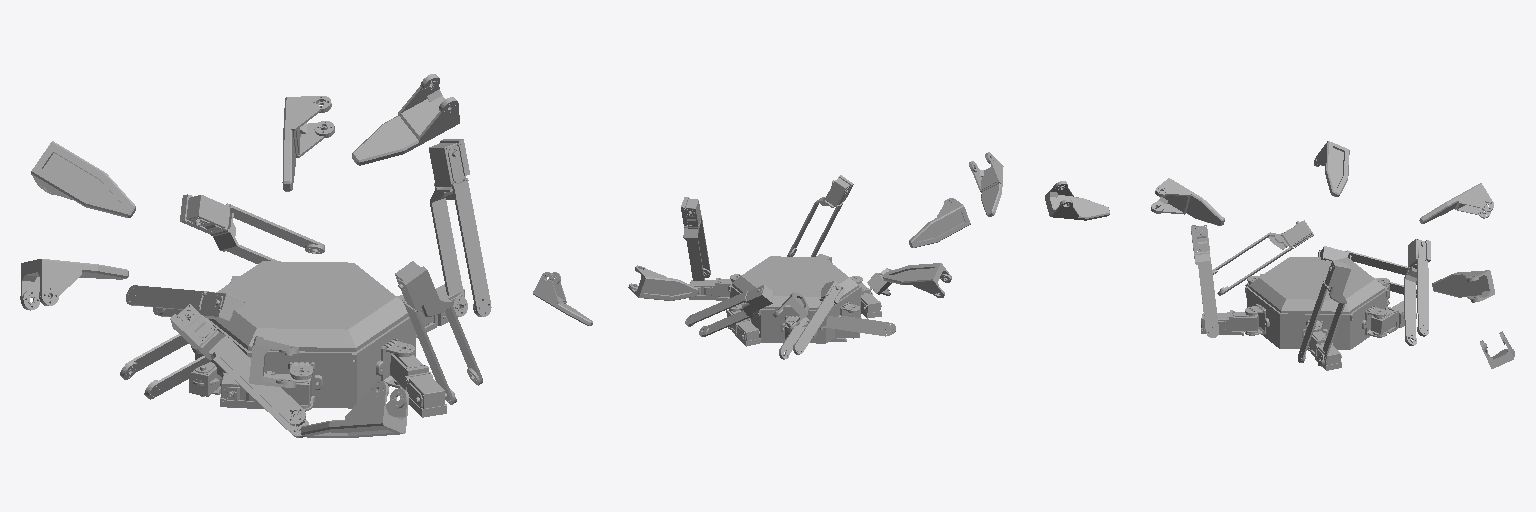
--- Facts derived from the render (not from the file) ---
Views: 3 orthographic renders of the robot side by side, from view 1: azimuth 30°, elevation 25°; view 2: azimuth 150°, elevation 25°; view 3: azimuth 270°, elevation 25°.
Model hexapod_description with 25 links and 24 joints (17 revolute, 1 continuous, 6 fixed), rooted at base_link, posed all joints at 0.
Visible links, largest first — view 1: base_link, 5B_link, 5C_link, 1B_link, 3C_link, 6B_link, 4B_link, 6C_link, 2C_link, 4C_link, 3B_link, 6A_link (+4 smaller); view 2: base_link, 4B_link, 5B_link, 3B_link, 1C_link, 4C_link, 2C_link, 6C_link, 6B_link, 5C_link, 2B_link, 5A_link (+1 smaller); view 3: base_link, 4B_link, 5B_link, 1C_link, 6B_link, 6C_link, 4C_link, 3C_link, 2C_link, 1B_link, 3B_link, 6A_link (+2 smaller).
Link boxes in pixels (x1,y1,x2,y2): base_link: [191, 261, 417, 411]; 5B_link: [429, 139, 491, 316]; 5C_link: [352, 74, 459, 165]; 1B_link: [170, 304, 308, 437]; 3C_link: [31, 141, 135, 217]; 6B_link: [395, 261, 482, 404]; 4B_link: [180, 194, 324, 263]; 6C_link: [301, 380, 408, 437]; 2C_link: [20, 259, 128, 310]; 4C_link: [282, 96, 334, 191]; 3B_link: [126, 285, 244, 320]; 6A_link: [390, 354, 446, 417]; base_link: [728, 256, 862, 343]; 4B_link: [685, 285, 773, 336]; 5B_link: [681, 197, 710, 280]; 3B_link: [779, 281, 844, 359]; 1C_link: [909, 198, 970, 247]; 4C_link: [628, 265, 698, 300]; 2C_link: [883, 263, 951, 297]; 6C_link: [969, 152, 1003, 216]; 6B_link: [787, 175, 853, 256]; 5C_link: [533, 272, 592, 325]; 2B_link: [820, 316, 895, 336]; 5A_link: [689, 278, 731, 300]; base_link: [1245, 257, 1389, 351]; 4B_link: [1404, 239, 1430, 345]; 5B_link: [1298, 260, 1350, 366]; 1C_link: [1151, 178, 1224, 225]; 6B_link: [1191, 225, 1218, 337]; 6C_link: [1045, 181, 1109, 220]; 4C_link: [1432, 270, 1494, 302]; 3C_link: [1419, 183, 1493, 223]; 2C_link: [1314, 141, 1349, 196]; 1B_link: [1212, 220, 1313, 295]; 3B_link: [1318, 246, 1416, 297]; 6A_link: [1201, 310, 1258, 335].
Bounding box of the posed robot: 0.7007 × 0.804 × 0.2192 m (x, y, z).
19 mesh visuals loaded from 25 distinct referenced files (19 binary STL); not drawn: 6 (reference not matched to a file when rendering).

The robot description file, URDF, robot "hexapod_description":
<?xml version="1.0" encoding="utf-8"?>
<!-- This URDF was automatically created by SolidWorks to URDF Exporter! Originally created by Stephen Brawner ([email redacted]) 
     Commit Version: 1.6.0-4-g7f85cfe  Build Version: 1.6.7995.38578
     For more information, please see http://wiki.ros.org/sw_urdf_exporter -->
<robot
  name="hexapod_description">
  <link
    name="base_link">
    <inertial>
      <origin
        xyz="8.3132949968423E-09 -1.60645398483705E-07 0.0398545694413555"
        rpy="0 0 0" />
      <mass
        value="0.508188386188677" />
      <inertia
        ixx="0.00175052303771207"
        ixy="-2.89062175548116E-06"
        ixz="2.99462448397941E-10"
        iyy="0.00174770751625814"
        iyz="-7.33217095029747E-09"
        izz="0.00325955756407988" />
    </inertial>
    <visual>
      <origin
        xyz="0 0 0"
        rpy="0 0 0" />
      <geometry>
        <mesh
          filename="package://hexapod_description/meshes/base_link.STL" />
      </geometry>
      <material
        name="">
        <color
          rgba="0.698039215686274 0.698039215686274 0.698039215686274 1" />
      </material>
    </visual>
    <collision>
      <origin
        xyz="0 0 0"
        rpy="0 0 0" />
      <geometry>
        <mesh
          filename="package://hexapod_description/meshes/base_link.STL" />
      </geometry>
    </collision>
  </link>
  <link
    name="1A_link">
    <inertial>
      <origin
        xyz="0.0436333077262725 -0.000983429050531615 -0.00579099697381125"
        rpy="0 0 0" />
      <mass
        value="0.0329624380889454" />
      <inertia
        ixx="4.11063607279416E-06"
        ixy="2.02839323084862E-07"
        ixz="6.13000252409731E-07"
        iyy="1.17840539365979E-05"
        iyz="-2.65175105562365E-08"
        izz="1.16182136839027E-05" />
    </inertial>
    <visual>
      <origin
        xyz="0 0 0"
        rpy="0 0 0" />
      <geometry>
        <mesh
          filename="package://hexapod_description/meshes/1A_link.STL" />
      </geometry>
      <material
        name="">
        <color
          rgba="0.698039215686274 0.698039215686274 0.698039215686274 1" />
      </material>
    </visual>
    <collision>
      <origin
        xyz="0 0 0"
        rpy="0 0 0" />
      <geometry>
        <mesh
          filename="package://hexapod_description/meshes/1A_link.STL" />
      </geometry>
    </collision>
  </link>
  <joint
    name="1A_joint"
    type="revolute">
    <origin
      xyz="-0.066747 -0.10678 0.03165"
      rpy="0 0.035739 -2.1204" />
    <parent
      link="base_link" />
    <child
      link="1A_link" />
    <axis
      xyz="-0.035728 0 0.99936" />
    <limit
      lower="-1"
      upper="1"
      effort="0"
      velocity="0" />
  </joint>
  <link
    name="1B_link">
    <inertial>
      <origin
        xyz="0.101870838528152 -0.00274030558914196 -0.00335041003005071"
        rpy="0 0 0" />
      <mass
        value="0.0491658077507467" />
      <inertia
        ixx="7.62687797343541E-06"
        ixy="1.36433680022234E-05"
        ixz="6.32130646997768E-06"
        iyy="9.61295518656803E-05"
        iyz="-1.69463851792476E-06"
        izz="9.79816595400282E-05" />
    </inertial>
    <visual>
      <origin
        xyz="0 0 0"
        rpy="0 0 0" />
      <geometry>
        <mesh
          filename="package://hexapod_description/meshes/1B_link.STL" />
      </geometry>
      <material
        name="">
        <color
          rgba="0.698039215686274 0.698039215686274 0.698039215686274 1" />
      </material>
    </visual>
    <collision>
      <origin
        xyz="0 0 0"
        rpy="0 0 0" />
      <geometry>
        <mesh
          filename="package://hexapod_description/meshes/1B_link.STL" />
      </geometry>
    </collision>
  </link>
  <joint
    name="1B_joint"
    type="revolute">
    <origin
      xyz="0.075536 -0.001836 0"
      rpy="0.00047569 -0.82122 -0.0094139" />
    <parent
      link="1A_link" />
    <child
      link="1B_link" />
    <axis
      xyz="0 -1 0" />
    <limit
      lower="-1"
      upper="1"
      effort="0"
      velocity="0" />
  </joint>
  <link
    name="1C_link">
    <inertial>
      <origin
        xyz="0.0396589922531539 -0.000979703305875712 0.0183007881130968"
        rpy="0 0 0" />
      <mass
        value="0.0681025572602457" />
      <inertia
        ixx="1.84805656449333E-05"
        ixy="-2.67788613280572E-07"
        ixz="1.32337376294039E-05"
        iyy="7.41762250523367E-05"
        iyz="-9.11230813138536E-08"
        izz="7.94157570878884E-05" />
    </inertial>
    <visual>
      <origin
        xyz="0 0 0"
        rpy="0 0 0" />
      <geometry>
        <mesh
          filename="package://hexapod_description/meshes/1C_link.STL" />
      </geometry>
      <material
        name="">
        <color
          rgba="0.698039215686274 0.698039215686274 0.698039215686274 1" />
      </material>
    </visual>
    <collision>
      <origin
        xyz="0 0 0"
        rpy="0 0 0" />
      <geometry>
        <mesh
          filename="package://hexapod_description/meshes/1C_link.STL" />
      </geometry>
    </collision>
  </link>
  <joint
    name="1C_joint"
    type="revolute">
    <origin
      xyz="0.17108 -0.00665 0"
      rpy="3.1416 1.0908 3.1416" />
    <parent
      link="1B_link" />
    <child
      link="1C_link" />
    <axis
      xyz="0 -1 0" />
    <limit
      lower="-1"
      upper="1"
      effort="0"
      velocity="0" />
  </joint>
  <link
    name="1P_link">
    <inertial>
      <origin
        xyz="-0.0774005193641238 -0.000101516346325103 -0.00446200209805514"
        rpy="0 0 0" />
      <mass
        value="0.065522052028268" />
      <inertia
        ixx="1.63167104597987E-05"
        ixy="-2.27987502279929E-07"
        ixz="-6.6373217611144E-06"
        iyy="7.40141018310191E-05"
        iyz="-1.67439121756891E-07"
        izz="8.14120915733197E-05" />
    </inertial>
    <visual>
      <origin
        xyz="0 0 0"
        rpy="0 0 0" />
      <geometry>
        <mesh
          filename="package://hexapod_description/meshes/1P_link.STL" />
      </geometry>
      <material
        name="">
        <color
          rgba="0.698039215686274 0.698039215686274 0.698039215686274 1" />
      </material>
    </visual>
    <collision>
      <origin
        xyz="0 0 0"
        rpy="0 0 0" />
      <geometry>
        <mesh
          filename="package://hexapod_description/meshes/1P_link.STL" />
      </geometry>
    </collision>
  </link>
  <joint
    name="1P_joint"
    type="fixed">
    <origin
      xyz="0.11638 -0.00085 0"
      rpy="0 0.30547 0" />
    <parent
      link="1C_link" />
    <child
      link="1P_link" />
    <axis
      xyz="0 0 0" />
    <limit
      lower="-1"
      upper="1"
      effort="0"
      velocity="0" />
  </joint>
  <link
    name="2A_link">
    <inertial>
      <origin
        xyz="0.0430928267092412 -0.00540497612153903 0.0129538457442289"
        rpy="0 0 0" />
      <mass
        value="0.0329624385476769" />
      <inertia
        ixx="4.2842650710344E-06"
        ixy="9.70938519171719E-07"
        ixz="8.71458885550921E-07"
        iyy="1.16637820306486E-05"
        iyz="-1.23301625642984E-07"
        izz="1.15648566711477E-05" />
    </inertial>
    <visual>
      <origin
        xyz="0 0 0"
        rpy="0 0 0" />
      <geometry>
        <mesh
          filename="package://hexapod_description/meshes/2A_link.STL" />
      </geometry>
      <material
        name="">
        <color
          rgba="0.698039215686274 0.698039215686274 0.698039215686274 1" />
      </material>
    </visual>
    <collision>
      <origin
        xyz="0 0 0"
        rpy="0 0 0" />
      <geometry>
        <mesh
          filename="package://hexapod_description/meshes/2A_link.STL" />
      </geometry>
    </collision>
  </link>
  <joint
    name="2A_joint"
    type="continuous">
    <origin
      xyz="-0.12582 0.0044184 0.01135"
      rpy="0 0 -3.0654" />
    <parent
      link="base_link" />
    <child
      link="2A_link" />
    <axis
      xyz="0 0 1" />
    <limit
      lower="-1"
      upper="1"
      effort="0"
      velocity="0" />
  </joint>
  <link
    name="2B_link">
    <inertial>
      <origin
        xyz="0.101870758188408 -0.00274030552288767 -0.00335286713403343"
        rpy="0 0 0" />
      <mass
        value="0.0491658081930703" />
      <inertia
        ixx="7.62718300402873E-06"
        ixy="1.36433271242108E-05"
        ixz="6.32348587175763E-06"
        iyy="9.6129551905895E-05"
        iyz="-1.69496760520903E-06"
        izz="9.79813545530303E-05" />
    </inertial>
    <visual>
      <origin
        xyz="0 0 0"
        rpy="0 0 0" />
      <geometry>
        <mesh
          filename="package://hexapod_description/meshes/2B_link.STL" />
      </geometry>
      <material
        name="">
        <color
          rgba="0.698039215686274 0.698039215686274 0.698039215686274 1" />
      </material>
    </visual>
    <collision>
      <origin
        xyz="0 0 0"
        rpy="0 0 0" />
      <geometry>
        <mesh
          filename="package://hexapod_description/meshes/2B_link.STL" />
      </geometry>
    </collision>
  </link>
  <joint
    name="2B_joint"
    type="revolute">
    <origin
      xyz="0.074928 -0.009527 0.017601"
      rpy="0 -0.78551 -0.11127" />
    <parent
      link="2A_link" />
    <child
      link="2B_link" />
    <axis
      xyz="0 -1 0" />
    <limit
      lower="-1"
      upper="1"
      effort="0"
      velocity="0" />
  </joint>
  <link
    name="2C_link">
    <inertial>
      <origin
        xyz="0.0396696358786118 -0.000979703306244147 0.0182899254696576"
        rpy="0 0 0" />
      <mass
        value="0.068102557260246" />
      <inertia
        ixx="1.84768194960925E-05"
        ixy="-2.67775709069847E-07"
        ixz="1.3225109652228E-05"
        iyy="7.41762250523362E-05"
        iyz="-9.11609949592177E-08"
        izz="7.94195032367302E-05" />
    </inertial>
    <visual>
      <origin
        xyz="0 0 0"
        rpy="0 0 0" />
      <geometry>
        <mesh
          filename="package://hexapod_description/meshes/2C_link.STL" />
      </geometry>
      <material
        name="">
        <color
          rgba="0.698039215686274 0.698039215686274 0.698039215686274 1" />
      </material>
    </visual>
    <collision>
      <origin
        xyz="0 0 0"
        rpy="0 0 0" />
      <geometry>
        <mesh
          filename="package://hexapod_description/meshes/2C_link.STL" />
      </geometry>
    </collision>
  </link>
  <joint
    name="2C_joint"
    type="revolute">
    <origin
      xyz="0.1711 -0.00665 0"
      rpy="-3.1416 1.0906 -3.1416" />
    <parent
      link="2B_link" />
    <child
      link="2C_link" />
    <axis
      xyz="0 -1 0" />
    <limit
      lower="-1"
      upper="1"
      effort="0"
      velocity="0" />
  </joint>
  <link
    name="2P_link">
    <inertial>
      <origin
        xyz="-0.0774005193641238 -0.000101517727919047 -0.00446200215131309"
        rpy="0 0 0" />
      <mass
        value="0.0655220520282681" />
      <inertia
        ixx="1.63167104597985E-05"
        ixy="-2.27987461896302E-07"
        ixz="-6.63732176250068E-06"
        iyy="7.40141018330569E-05"
        iyz="-1.67439166770418E-07"
        izz="8.14120915712826E-05" />
    </inertial>
    <visual>
      <origin
        xyz="0 0 0"
        rpy="0 0 0" />
      <geometry>
        <mesh
          filename="package://hexapod_description/meshes/2P_link.STL" />
      </geometry>
      <material
        name="">
        <color
          rgba="0.698039215686274 0.698039215686274 0.698039215686274 1" />
      </material>
    </visual>
    <collision>
      <origin
        xyz="0 0 0"
        rpy="0 0 0" />
      <geometry>
        <mesh
          filename="package://hexapod_description/meshes/2P_link.STL" />
      </geometry>
    </collision>
  </link>
  <joint
    name="2P_joint"
    type="fixed">
    <origin
      xyz="0.11639 -0.00085 0"
      rpy="0 0.30533 0" />
    <parent
      link="2C_link" />
    <child
      link="2P_link" />
    <axis
      xyz="0 0 0" />
    <limit
      lower="-1"
      upper="1"
      effort="0"
      velocity="0" />
  </joint>
  <link
    name="3A_link">
    <inertial>
      <origin
        xyz="0.0436333079139021 -0.000983433795987143 -0.00579099682872819"
        rpy="0 0 0" />
      <mass
        value="0.0329624385357417" />
      <inertia
        ixx="4.11063610367343E-06"
        ixy="2.02839324882533E-07"
        ixz="6.13000250342798E-07"
        iyy="1.1784053976968E-05"
        iyz="-2.65175120067955E-08"
        izz="1.16182136968584E-05" />
    </inertial>
    <visual>
      <origin
        xyz="0 0 0"
        rpy="0 0 0" />
      <geometry>
        <mesh
          filename="package://hexapod_description/meshes/3A_link.STL" />
      </geometry>
      <material
        name="">
        <color
          rgba="0.698039215686274 0.698039215686274 0.698039215686274 1" />
      </material>
    </visual>
    <collision>
      <origin
        xyz="0 0 0"
        rpy="0 0 0" />
      <geometry>
        <mesh
          filename="package://hexapod_description/meshes/3A_link.STL" />
      </geometry>
    </collision>
  </link>
  <joint
    name="3A_joint"
    type="revolute">
    <origin
      xyz="-0.059099 0.11119 0.03165"
      rpy="0 0.035732 2.0683" />
    <parent
      link="base_link" />
    <child
      link="3A_link" />
    <axis
      xyz="-0.035728 0 0.99936" />
    <limit
      lower="-1"
      upper="1"
      effort="0"
      velocity="0" />
  </joint>
  <link
    name="3B_link">
    <inertial>
      <origin
        xyz="0.101870758152179 -0.0027403055212869 -0.00335286720269334"
        rpy="0 0 0" />
      <mass
        value="0.0491658081987106" />
      <inertia
        ixx="7.62718300690091E-06"
        ixy="1.36433271238362E-05"
        ixz="6.32348589089637E-06"
        iyy="9.61295519062814E-05"
        iyz="-1.69496760811594E-06"
        izz="9.79813545505293E-05" />
    </inertial>
    <visual>
      <origin
        xyz="0 0 0"
        rpy="0 0 0" />
      <geometry>
        <mesh
          filename="package://hexapod_description/meshes/3B_link.STL" />
      </geometry>
      <material
        name="">
        <color
          rgba="0.698039215686274 0.698039215686274 0.698039215686274 1" />
      </material>
    </visual>
    <collision>
      <origin
        xyz="0 0 0"
        rpy="0 0 0" />
      <geometry>
        <mesh
          filename="package://hexapod_description/meshes/3B_link.STL" />
      </geometry>
    </collision>
  </link>
  <joint
    name="3B_joint"
    type="revolute">
    <origin
      xyz="0.075536 -0.001836 0"
      rpy="0.0004757 -0.82124 -0.0094139" />
    <parent
      link="3A_link" />
    <child
      link="3B_link" />
    <axis
      xyz="5.4838E-05 -1 -5.485E-05" />
    <limit
      lower="-1"
      upper="1"
      effort="0"
      velocity="0" />
  </joint>
  <link
    name="3C_link">
    <inertial>
      <origin
        xyz="0.0396696358757853 -0.000979703304661822 0.0182899254680321"
        rpy="0 0 0" />
      <mass
        value="0.0681025572602457" />
      <inertia
        ixx="1.84768194960843E-05"
        ixy="-2.67775708726413E-07"
        ixz="1.32251096522163E-05"
        iyy="7.41762250523397E-05"
        iyz="-9.11609950489801E-08"
        izz="7.94195032367347E-05" />
    </inertial>
    <visual>
      <origin
        xyz="0 0 0"
        rpy="0 0 0" />
      <geometry>
        <mesh
          filename="package://hexapod_description/meshes/3C_link.STL" />
      </geometry>
      <material
        name="">
        <color
          rgba="0.698039215686274 0.698039215686274 0.698039215686274 1" />
      </material>
    </visual>
    <collision>
      <origin
        xyz="0 0 0"
        rpy="0 0 0" />
      <geometry>
        <mesh
          filename="package://hexapod_description/meshes/3C_link.STL" />
      </geometry>
    </collision>
  </link>
  <joint
    name="3C_joint"
    type="revolute">
    <origin
      xyz="0.1711 -0.00665 0"
      rpy="3.1416 1.0906 3.1416" />
    <parent
      link="3B_link" />
    <child
      link="3C_link" />
    <axis
      xyz="2.3315E-05 -1 7.3974E-05" />
    <limit
      lower="-1"
      upper="1"
      effort="0"
      velocity="0" />
  </joint>
  <link
    name="3P_link">
    <inertial>
      <origin
        xyz="-0.0774005194154543 -0.000101516673262747 -0.00446200216199027"
        rpy="0 0 0" />
      <mass
        value="0.0655220520282678" />
      <inertia
        ixx="1.63167104597984E-05"
        ixy="-2.27987492725121E-07"
        ixz="-6.63732176144121E-06"
        iyy="7.40141018315014E-05"
        iyz="-1.67439132409489E-07"
        izz="8.14120915728379E-05" />
    </inertial>
    <visual>
      <origin
        xyz="0 0 0"
        rpy="0 0 0" />
      <geometry>
        <mesh
          filename="package://hexapod_description/meshes/3P_link.STL" />
      </geometry>
      <material
        name="">
        <color
          rgba="0.698039215686274 0.698039215686274 0.698039215686274 1" />
      </material>
    </visual>
    <collision>
      <origin
        xyz="0 0 0"
        rpy="0 0 0" />
      <geometry>
        <mesh
          filename="package://hexapod_description/meshes/3P_link.STL" />
      </geometry>
    </collision>
  </link>
  <joint
    name="3P_joint"
    type="fixed">
    <origin
      xyz="0.11639 -0.00085 0"
      rpy="0 0.30533 0" />
    <parent
      link="3C_link" />
    <child
      link="3P_link" />
    <axis
      xyz="0 0 0" />
    <limit
      lower="-1"
      upper="1"
      effort="0"
      velocity="0" />
  </joint>
  <link
    name="4A_link">
    <inertial>
      <origin
        xyz="0.0436333077638231 -0.000983426215110494 -0.00579099697327434"
        rpy="0 0 0" />
      <mass
        value="0.0329624380888626" />
      <inertia
        ixx="4.11063607281274E-06"
        ixy="2.02839323083891E-07"
        ixz="6.13000252543518E-07"
        iyy="1.17840539365906E-05"
        iyz="-2.65175105588552E-08"
        izz="1.16182136838759E-05" />
    </inertial>
    <visual>
      <origin
        xyz="0 0 0"
        rpy="0 0 0" />
      <geometry>
        <mesh
          filename="package://hexapod_description/meshes/4A_link.STL" />
      </geometry>
      <material
        name="">
        <color
          rgba="0.698039215686274 0.698039215686274 0.698039215686274 1" />
      </material>
    </visual>
    <collision>
      <origin
        xyz="0 0 0"
        rpy="0 0 0" />
      <geometry>
        <mesh
          filename="package://hexapod_description/meshes/4A_link.STL" />
      </geometry>
    </collision>
  </link>
  <joint
    name="4A_joint"
    type="revolute">
    <origin
      xyz="0.066747 0.10678 0.03165"
      rpy="0 0.035732 1.0212" />
    <parent
      link="base_link" />
    <child
      link="4A_link" />
    <axis
      xyz="-0.035728 0 0.99936" />
    <limit
      lower="-1"
      upper="1"
      effort="0"
      velocity="0" />
  </joint>
  <link
    name="4B_link">
    <inertial>
      <origin
        xyz="0.101870757684529 -0.0027403055893247 -0.00335286721489159"
        rpy="0 0 0" />
      <mass
        value="0.049165807750671" />
      <inertia
        ixx="7.62718297342003E-06"
        ixy="1.36433271225648E-05"
        ixz="6.32348587421055E-06"
        iyy="9.61295518656705E-05"
        iyz="-1.69496760366067E-06"
        izz="9.79813545400391E-05" />
    </inertial>
    <visual>
      <origin
        xyz="0 0 0"
        rpy="0 0 0" />
      <geometry>
        <mesh
          filename="package://hexapod_description/meshes/4B_link.STL" />
      </geometry>
      <material
        name="">
        <color
          rgba="0.698039215686274 0.698039215686274 0.698039215686274 1" />
      </material>
    </visual>
    <collision>
      <origin
        xyz="0 0 0"
        rpy="0 0 0" />
      <geometry>
        <mesh
          filename="package://hexapod_description/meshes/4B_link.STL" />
      </geometry>
    </collision>
  </link>
  <joint
    name="4B_joint"
    type="revolute">
    <origin
      xyz="0.075536 -0.001836 0"
      rpy="0.00047571 -0.82125 -0.0094139" />
    <parent
      link="4A_link" />
    <child
      link="4B_link" />
    <axis
      xyz="-3.1787E-05 -1 3.1795E-05" />
    <limit
      lower="-1"
      upper="1"
      effort="0"
      velocity="0" />
  </joint>
  <link
    name="4C_link">
    <inertial>
      <origin
        xyz="0.0396696358785887 -0.000979703306299984 0.0182899254696444"
        rpy="0 0 0" />
      <mass
        value="0.0681025572602458" />
      <inertia
        ixx="1.84768194960873E-05"
        ixy="-2.67775709028505E-07"
        ixz="1.32251096522168E-05"
        iyy="7.4176225052337E-05"
        iyz="-9.11609949771886E-08"
        izz="7.94195032367349E-05" />
    </inertial>
    <visual>
      <origin
        xyz="0 0 0"
        rpy="0 0 0" />
      <geometry>
        <mesh
          filename="package://hexapod_description/meshes/4C_link.STL" />
      </geometry>
      <material
        name="">
        <color
          rgba="0.698039215686274 0.698039215686274 0.698039215686274 1" />
      </material>
    </visual>
    <collision>
      <origin
        xyz="0 0 0"
        rpy="0 0 0" />
      <geometry>
        <mesh
          filename="package://hexapod_description/meshes/4C_link.STL" />
      </geometry>
    </collision>
  </link>
  <joint
    name="4C_joint"
    type="revolute">
    <origin
      xyz="0.1711 -0.00665 0"
      rpy="-3.1416 1.0906 -3.1416" />
    <parent
      link="4B_link" />
    <child
      link="4C_link" />
    <axis
      xyz="-1.3515E-05 -1 -4.288E-05" />
    <limit
      lower="-1"
      upper="1"
      effort="0"
      velocity="0" />
  </joint>
  <link
    name="4P_link">
    <inertial>
      <origin
        xyz="-0.0774005193575977 -0.000101517750093871 -0.00446200215934681"
        rpy="0 0 0" />
      <mass
        value="0.065522052028268" />
      <inertia
        ixx="1.63167104569614E-05"
        ixy="-2.27987461284517E-07"
        ixz="-6.63732174861027E-06"
        iyy="7.40141018330899E-05"
        iyz="-1.67439167444342E-07"
        izz="8.14120915740874E-05" />
    </inertial>
    <visual>
      <origin
        xyz="0 0 0"
        rpy="0 0 0" />
      <geometry>
        <mesh
          filename="package://hexapod_description/meshes/4P_link.STL" />
      </geometry>
      <material
        name="">
        <color
          rgba="0.698039215686274 0.698039215686274 0.698039215686274 1" />
      </material>
    </visual>
    <collision>
      <origin
        xyz="0 0 0"
        rpy="0 0 0" />
      <geometry>
        <mesh
          filename="package://hexapod_description/meshes/4P_link.STL" />
      </geometry>
    </collision>
  </link>
  <joint
    name="4P_joint"
    type="fixed">
    <origin
      xyz="0.11639 -0.00085 0"
      rpy="0 0.30533 0" />
    <parent
      link="4C_link" />
    <child
      link="4P_link" />
    <axis
      xyz="0 0 0" />
    <limit
      lower="-1"
      upper="1"
      effort="0"
      velocity="0" />
  </joint>
  <link
    name="5A_link">
    <inertial>
      <origin
        xyz="0.0436333076356487 -0.00098345668111122 -0.00579099684997697"
        rpy="0 0 0" />
      <mass
        value="0.0329624385477412" />
      <inertia
        ixx="4.11063610342843E-06"
        ixy="2.02839325081659E-07"
        ixz="6.13000247996769E-07"
        iyy="1.17840539747078E-05"
        iyz="-2.65175114774486E-08"
        izz="1.16182136946807E-05" />
    </inertial>
    <visual>
      <origin
        xyz="0 0 0"
        rpy="0 0 0" />
      <geometry>
        <mesh
          filename="package://hexapod_description/meshes/5A_link.STL" />
      </geometry>
      <material
        name="">
        <color
          rgba="0.698039215686274 0.698039215686274 0.698039215686274 1" />
      </material>
    </visual>
    <collision>
      <origin
        xyz="0 0 0"
        rpy="0 0 0" />
      <geometry>
        <mesh
          filename="package://hexapod_description/meshes/5A_link.STL" />
      </geometry>
    </collision>
  </link>
  <joint
    name="5A_joint"
    type="revolute">
    <origin
      xyz="0.12585 -0.0044158 0.03165"
      rpy="0 0.035736 -0.026443" />
    <parent
      link="base_link" />
    <child
      link="5A_link" />
    <axis
      xyz="-0.035728 0 0.99936" />
    <limit
      lower="-1"
      upper="1"
      effort="0"
      velocity="0" />
  </joint>
  <link
    name="5B_link">
    <inertial>
      <origin
        xyz="0.101870757949128 -0.00274030552277019 -0.00335286752119701"
        rpy="0 0 0" />
      <mass
        value="0.0491658081930705" />
      <inertia
        ixx="7.62718301928522E-06"
        ixy="1.36433271221595E-05"
        ixz="6.32348598076936E-06"
        iyy="9.6129551905897E-05"
        iyz="-1.69496762166919E-06"
        izz="9.79813545377717E-05" />
    </inertial>
    <visual>
      <origin
        xyz="0 0 0"
        rpy="0 0 0" />
      <geometry>
        <mesh
          filename="package://hexapod_description/meshes/5B_link.STL" />
      </geometry>
      <material
        name="">
        <color
          rgba="0.698039215686274 0.698039215686274 0.698039215686274 1" />
      </material>
    </visual>
    <collision>
      <origin
        xyz="0 0 0"
        rpy="0 0 0" />
      <geometry>
        <mesh
          filename="package://hexapod_description/meshes/5B_link.STL" />
      </geometry>
    </collision>
  </link>
  <joint
    name="5B_joint"
    type="revolute">
    <origin
      xyz="0.075536 -0.001836 0"
      rpy="0.00047569 -0.82121 -0.0094139" />
    <parent
      link="5A_link" />
    <child
      link="5B_link" />
    <axis
      xyz="0 -1 0" />
    <limit
      lower="-1"
      upper="1"
      effort="0"
      velocity="0" />
  </joint>
  <link
    name="5C_link">
    <inertial>
      <origin
        xyz="0.0396696358634261 -0.000979703306055839 0.0182899254606058"
        rpy="0 0 0" />
      <mass
        value="0.0681025572602457" />
      <inertia
        ixx="1.8476819496087E-05"
        ixy="-2.67775708985075E-07"
        ixz="1.32251096522173E-05"
        iyy="7.41762250523371E-05"
        iyz="-9.11609949870549E-08"
        izz="7.94195032367344E-05" />
    </inertial>
    <visual>
      <origin
        xyz="0 0 0"
        rpy="0 0 0" />
      <geometry>
        <mesh
          filename="package://hexapod_description/meshes/5C_link.STL" />
      </geometry>
      <material
        name="">
        <color
          rgba="0.698039215686274 0.698039215686274 0.698039215686274 1" />
      </material>
    </visual>
    <collision>
      <origin
        xyz="0 0 0"
        rpy="0 0 0" />
      <geometry>
        <mesh
          filename="package://hexapod_description/meshes/5C_link.STL" />
      </geometry>
    </collision>
  </link>
  <joint
    name="5C_joint"
    type="revolute">
    <origin
      xyz="0.1711 -0.00665 0"
      rpy="3.1416 1.0907 3.1416" />
    <parent
      link="5B_link" />
    <child
      link="5C_link" />
    <axis
      xyz="0 -1 0" />
    <limit
      lower="-1"
      upper="1"
      effort="0"
      velocity="0" />
  </joint>
  <link
    name="5P_link">
    <inertial>
      <origin
        xyz="-0.0774005193761778 -0.000101517543398827 -0.00446200215159187"
        rpy="0 0 0" />
      <mass
        value="0.065522052028268" />
      <inertia
        ixx="1.63167104607636E-05"
        ixy="-2.27987467278176E-07"
        ixz="-6.63732176704751E-06"
        iyy="7.40141018327849E-05"
        iyz="-1.67439160775431E-07"
        izz="8.14120915705898E-05" />
    </inertial>
    <visual>
      <origin
        xyz="0 0 0"
        rpy="0 0 0" />
      <geometry>
        <mesh
          filename="package://hexapod_description/meshes/5P_link.STL" />
      </geometry>
      <material
        name="">
        <color
          rgba="0.698039215686274 0.698039215686274 0.698039215686274 1" />
      </material>
    </visual>
    <collision>
      <origin
        xyz="0 0 0"
        rpy="0 0 0" />
      <geometry>
        <mesh
          filename="package://hexapod_description/meshes/5P_link.STL" />
      </geometry>
    </collision>
  </link>
  <joint
    name="5P_joint"
    type="fixed">
    <origin
      xyz="0.11639 -0.00085 0"
      rpy="0 0.30533 0" />
    <parent
      link="5C_link" />
    <child
      link="5P_link" />
    <axis
      xyz="0 0 0" />
    <limit
      lower="-1"
      upper="1"
      effort="0"
      velocity="0" />
  </joint>
  <link
    name="6A_link">
    <inertial>
      <origin
        xyz="0.0436333079867383 -0.000983428255767693 -0.0057909968276284"
        rpy="0 0 0" />
      <mass
        value="0.0329624385357485" />
      <inertia
        ixx="4.11063610371602E-06"
        ixy="2.02839324881721E-07"
        ixz="6.13000250602213E-07"
        iyy="1.17840539769681E-05"
        iyz="-2.65175120138815E-08"
        izz="1.16182136968163E-05" />
    </inertial>
    <visual>
      <origin
        xyz="0 0 0"
        rpy="0 0 0" />
      <geometry>
        <mesh
          filename="package://hexapod_description/meshes/6A_link.STL" />
      </geometry>
      <material
        name="">
        <color
          rgba="0.698039215686274 0.698039215686274 0.698039215686274 1" />
      </material>
    </visual>
    <collision>
      <origin
        xyz="0 0 0"
        rpy="0 0 0" />
      <geometry>
        <mesh
          filename="package://hexapod_description/meshes/6A_link.STL" />
      </geometry>
    </collision>
  </link>
  <joint
    name="6A_joint"
    type="revolute">
    <origin
      xyz="0.059099 -0.11119 0.03165"
      rpy="0 0.03574 -1.0732" />
    <parent
      link="base_link" />
    <child
      link="6A_link" />
    <axis
      xyz="-0.035728 0 0.99936" />
    <limit
      lower="-1"
      upper="1"
      effort="0"
      velocity="0" />
  </joint>
  <link
    name="6B_link">
    <inertial>
      <origin
        xyz="0.101870758200084 -0.00274030552203741 -0.0033528671253038"
        rpy="0 0 0" />
      <mass
        value="0.0491658081987123" />
      <inertia
        ixx="7.62718300386454E-06"
        ixy="1.36433271242787E-05"
        ixz="6.32348586912741E-06"
        iyy="9.61295519062704E-05"
        iyz="-1.6949676048313E-06"
        izz="9.79813545535768E-05" />
    </inertial>
    <visual>
      <origin
        xyz="0 0 0"
        rpy="0 0 0" />
      <geometry>
        <mesh
          filename="package://hexapod_description/meshes/6B_link.STL" />
      </geometry>
      <material
        name="">
        <color
          rgba="0.698039215686274 0.698039215686274 0.698039215686274 1" />
      </material>
    </visual>
    <collision>
      <origin
        xyz="0 0 0"
        rpy="0 0 0" />
      <geometry>
        <mesh
          filename="package://hexapod_description/meshes/6B_link.STL" />
      </geometry>
    </collision>
  </link>
  <joint
    name="6B_joint"
    type="revolute">
    <origin
      xyz="0.075536 -0.001836 0"
      rpy="0.00047571 -0.82125 -0.0094139" />
    <parent
      link="6A_link" />
    <child
      link="6B_link" />
    <axis
      xyz="0 -1 0" />
    <limit
      lower="-1"
      upper="1"
      effort="0"
      velocity="0" />
  </joint>
  <link
    name="6C_link">
    <inertial>
      <origin
        xyz="0.0396696358789481 -0.000979703306300261 0.0182899254698594"
        rpy="0 0 0" />
      <mass
        value="0.0681025572602456" />
      <inertia
        ixx="1.84768194960872E-05"
        ixy="-2.67775709028101E-07"
        ixz="1.32251096522167E-05"
        iyy="7.41762250523365E-05"
        iyz="-9.11609949772746E-08"
        izz="7.94195032367344E-05" />
    </inertial>
    <visual>
      <origin
        xyz="0 0 0"
        rpy="0 0 0" />
      <geometry>
        <mesh
          filename="package://hexapod_description/meshes/6C_link.STL" />
      </geometry>
      <material
        name="">
        <color
          rgba="0.698039215686274 0.698039215686274 0.698039215686274 1" />
      </material>
    </visual>
    <collision>
      <origin
        xyz="0 0 0"
        rpy="0 0 0" />
      <geometry>
        <mesh
          filename="package://hexapod_description/meshes/6C_link.STL" />
      </geometry>
    </collision>
  </link>
  <joint
    name="6C_joint"
    type="revolute">
    <origin
      xyz="0.1711 -0.00665 0"
      rpy="-3.1416 1.0906 3.1416" />
    <parent
      link="6B_link" />
    <child
      link="6C_link" />
    <axis
      xyz="0 -1 0" />
    <limit
      lower="-1"
      upper="1"
      effort="0"
      velocity="0" />
  </joint>
  <link
    name="6P_link">
    <inertial>
      <origin
        xyz="-0.0774005193641243 -0.000101517727918721 -0.00446200215131345"
        rpy="0 0 0" />
      <mass
        value="0.065522052028268" />
      <inertia
        ixx="1.63167104597986E-05"
        ixy="-2.27987461896634E-07"
        ixz="-6.63732176250068E-06"
        iyy="7.40141018330571E-05"
        iyz="-1.67439166770627E-07"
        izz="8.14120915712827E-05" />
    </inertial>
    <visual>
      <origin
        xyz="0 0 0"
        rpy="0 0 0" />
      <geometry>
        <mesh
          filename="package://hexapod_description/meshes/6P_link.STL" />
      </geometry>
      <material
        name="">
        <color
          rgba="0.698039215686274 0.698039215686274 0.698039215686274 1" />
      </material>
    </visual>
    <collision>
      <origin
        xyz="0 0 0"
        rpy="0 0 0" />
      <geometry>
        <mesh
          filename="package://hexapod_description/meshes/6P_link.STL" />
      </geometry>
    </collision>
  </link>
  <joint
    name="6P_joint"
    type="fixed">
    <origin
      xyz="0.11639 -0.00085 0"
      rpy="0 0.30533 0" />
    <parent
      link="6C_link" />
    <child
      link="6P_link" />
    <axis
      xyz="0 0 0" />
    <limit
      lower="-1"
      upper="1"
      effort="0"
      velocity="0" />
  </joint>
</robot>
